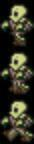zombie: (0, 49, 34, 95), (0, 98, 34, 144), (0, 3, 34, 48)
